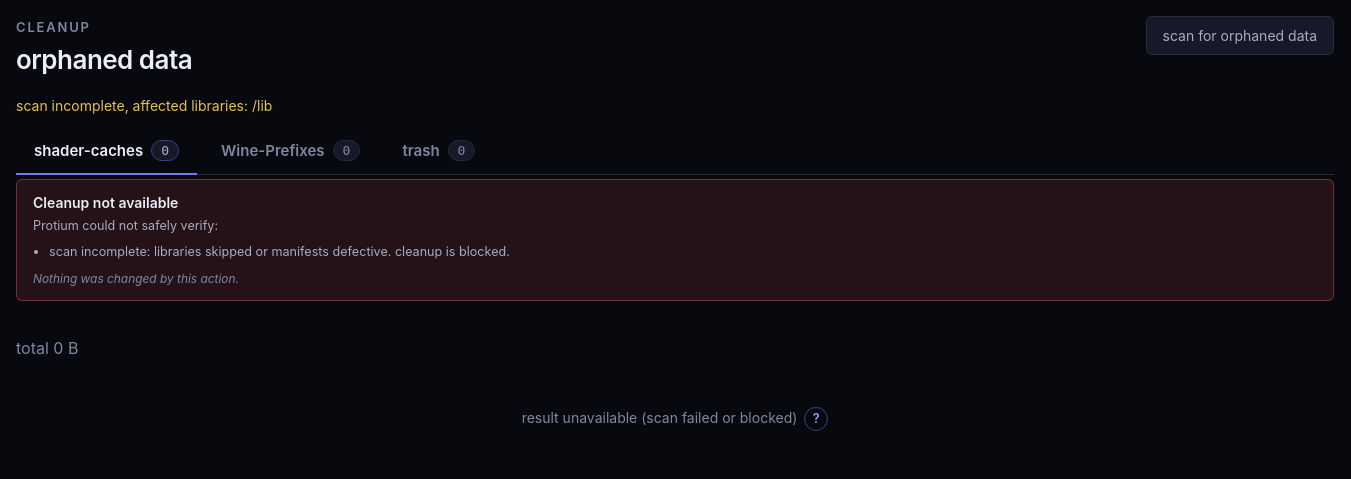
CleanupView Erklärungen › zeigt den cleanup-blocked-topic je blockiertem Bereich in en
The width and height of the screenshot is (1351, 479).
Expected: the panel with id "cv-panel-shaders" shows "result unavailable (scan failed or blocked)", [522,409,797,426]
What coordinates should you click on to do the following:
click the tab with id "cv-tab-prefixes"
I would click on:
 (291, 151)
Its box is [203,128,378,174].
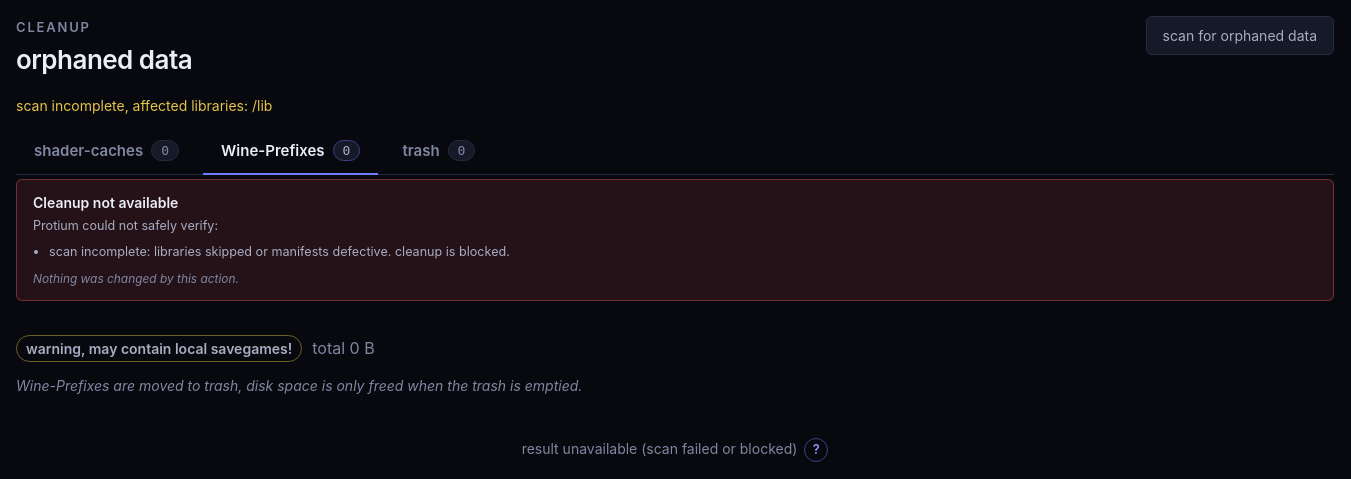
Expected: the button with test id "explain-trigger" is shown, [804,438,828,462]
What coordinates should you click on to do the following:
click the tab with id "cv-tab-trash"
I would click on:
 (439, 151)
Its box is [384,128,493,174].
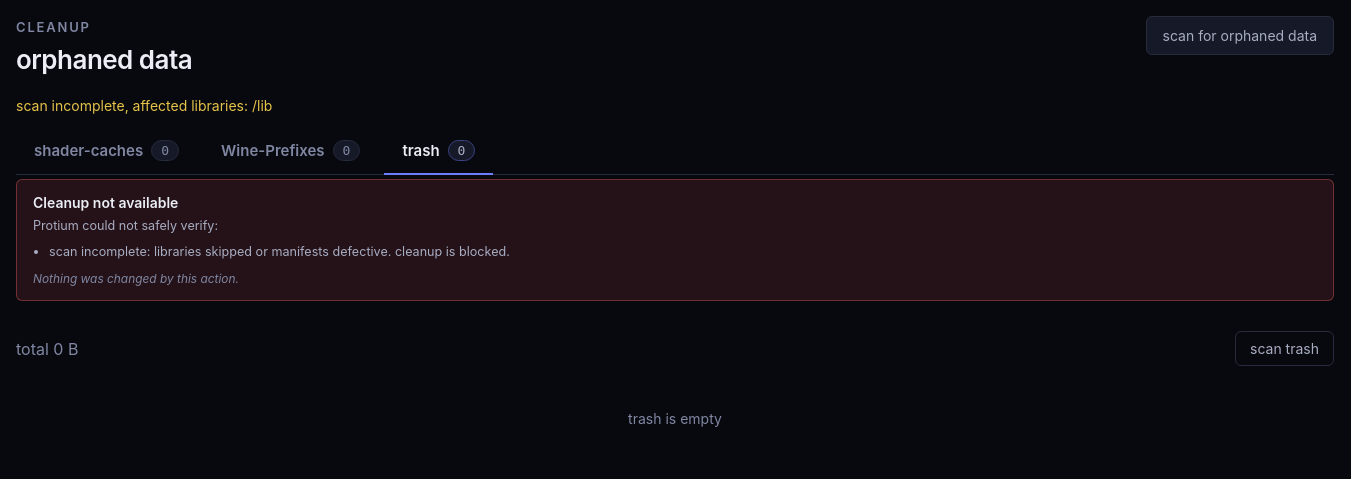
Expected: the panel with id "cv-panel-trash" shows "trash is empty", [628,410,722,427]
